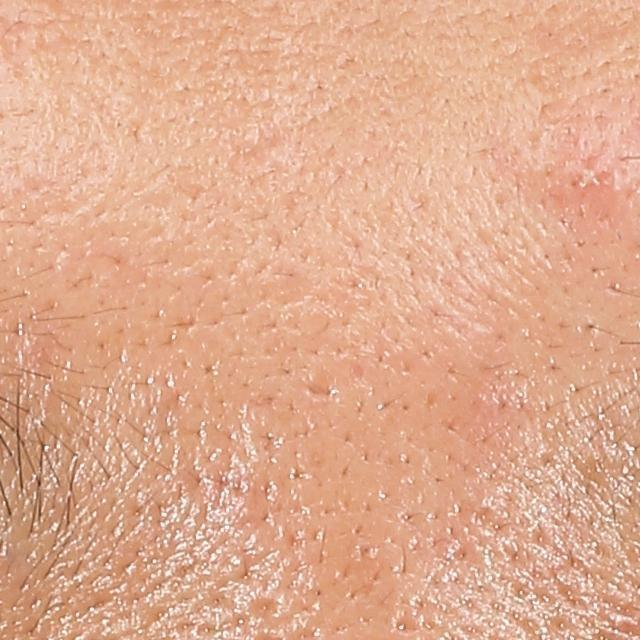atrophic_scar: (307, 381, 343, 405)
